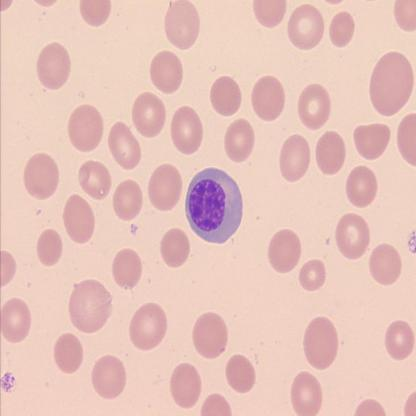NRC: (183, 166, 245, 247)
